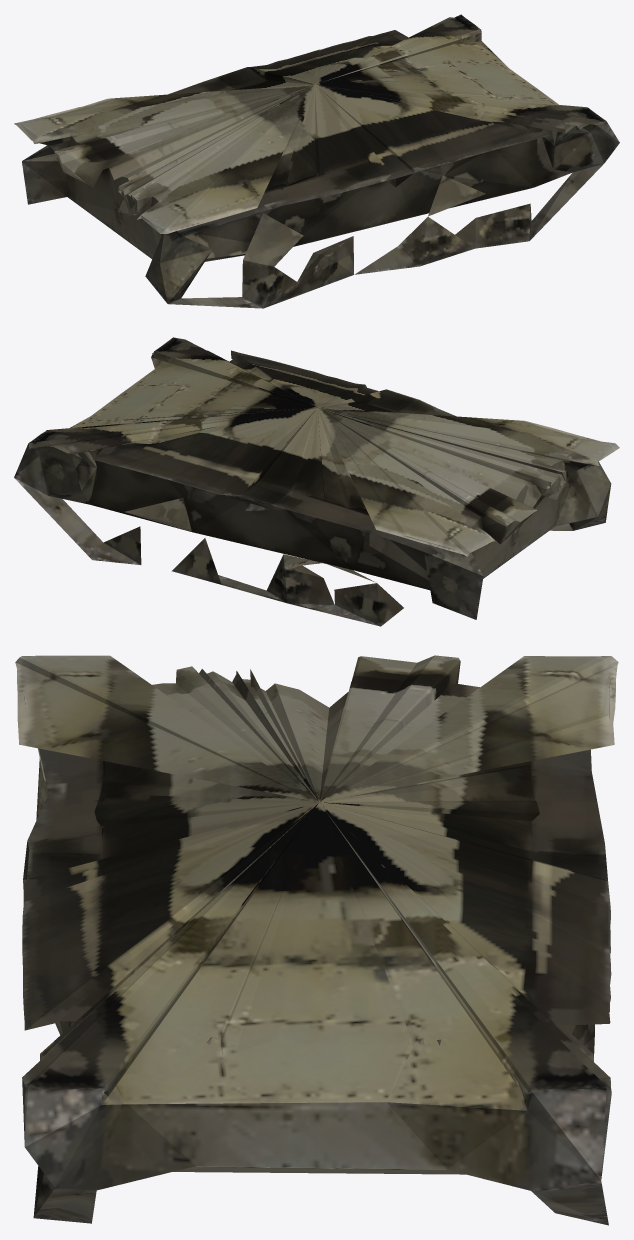
Rendered from hull.obj.
3 views of the same model, one above another, from view 1: azimuth 30°, elevation 25°; view 2: azimuth 150°, elevation 25°; view 3: azimuth 270°, elevation 25° (orthographic). The views are drawn at different scales.
Bounding box in the file's own units: 0.9995 × 0.2878 × 0.564.
1 material, 1 textured.
